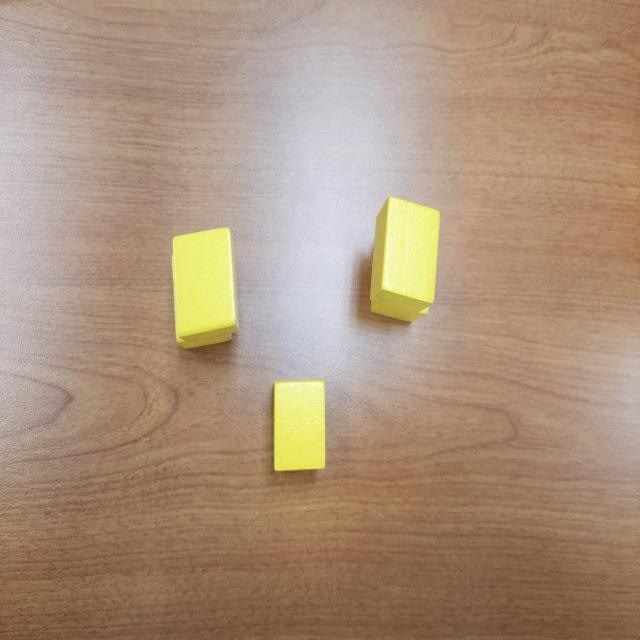yellow: (371, 198, 442, 314), (172, 228, 242, 338), (173, 263, 234, 351), (371, 237, 432, 325), (273, 380, 327, 471)
